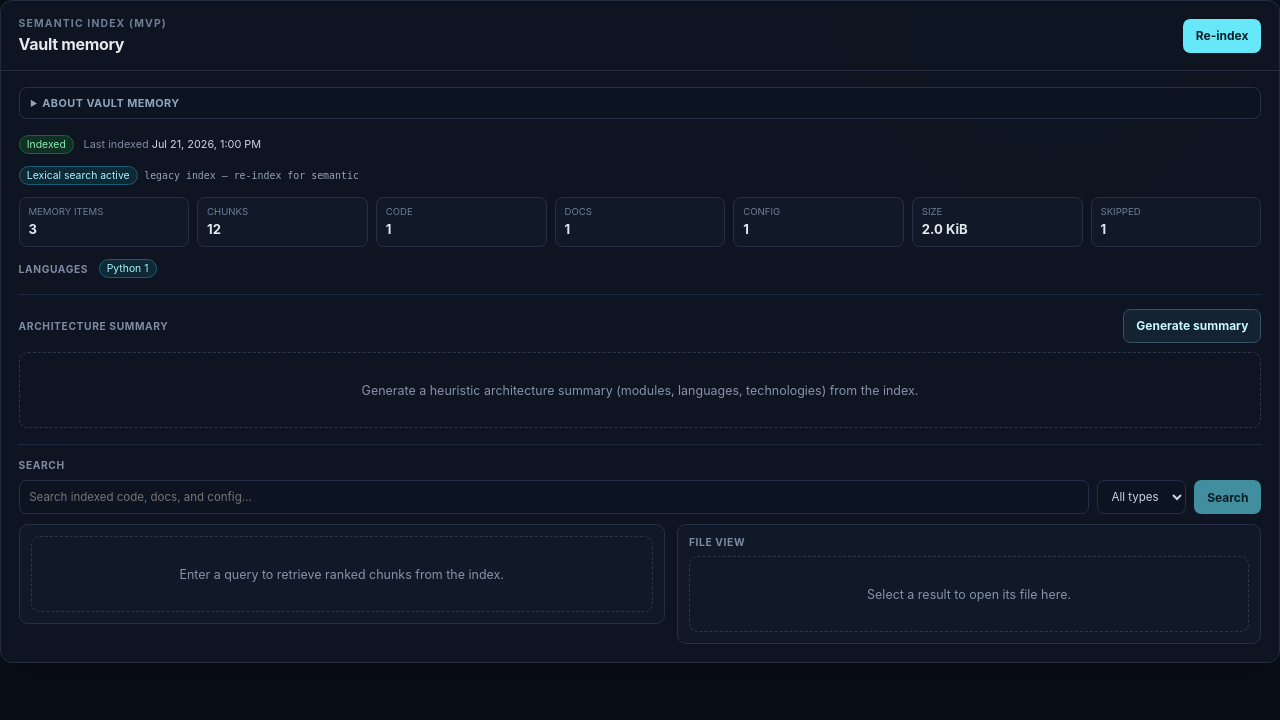
Test: VaultIndexPanel › shows a bounded stale message when a hit's file is gone after re-index
Type "authenticate" into the search field named "Vault search query". click: (554, 497)
box: [19,480,1089,514]
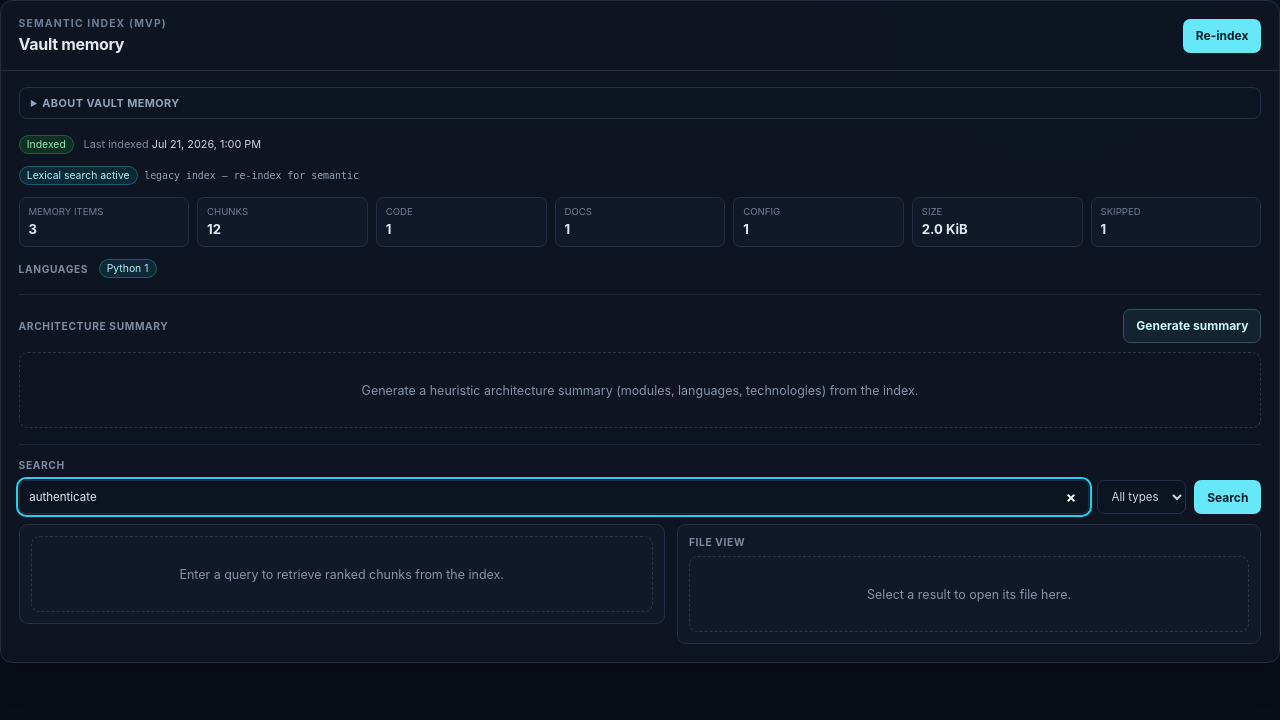
Click the button "Search". click: (1228, 497)
box: [1194,480,1261,514]
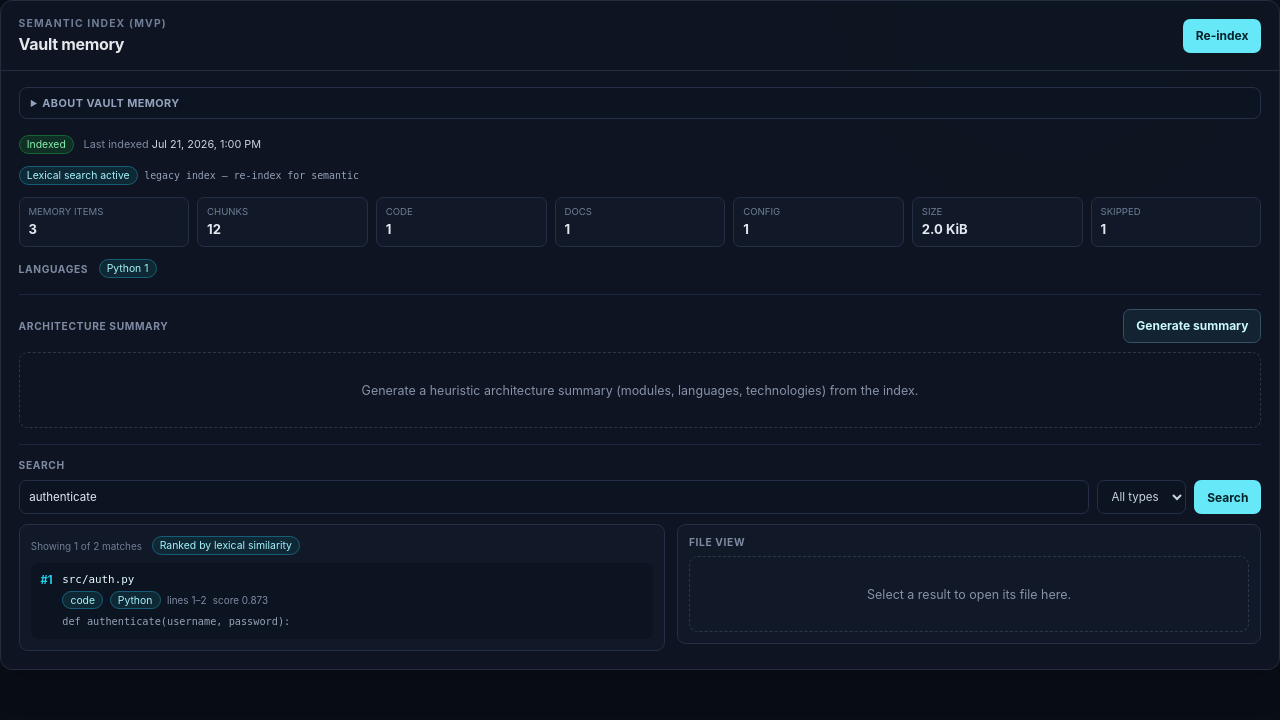
Click the button "src/auth.py". click: (98, 579)
box: [31,563,653,639]
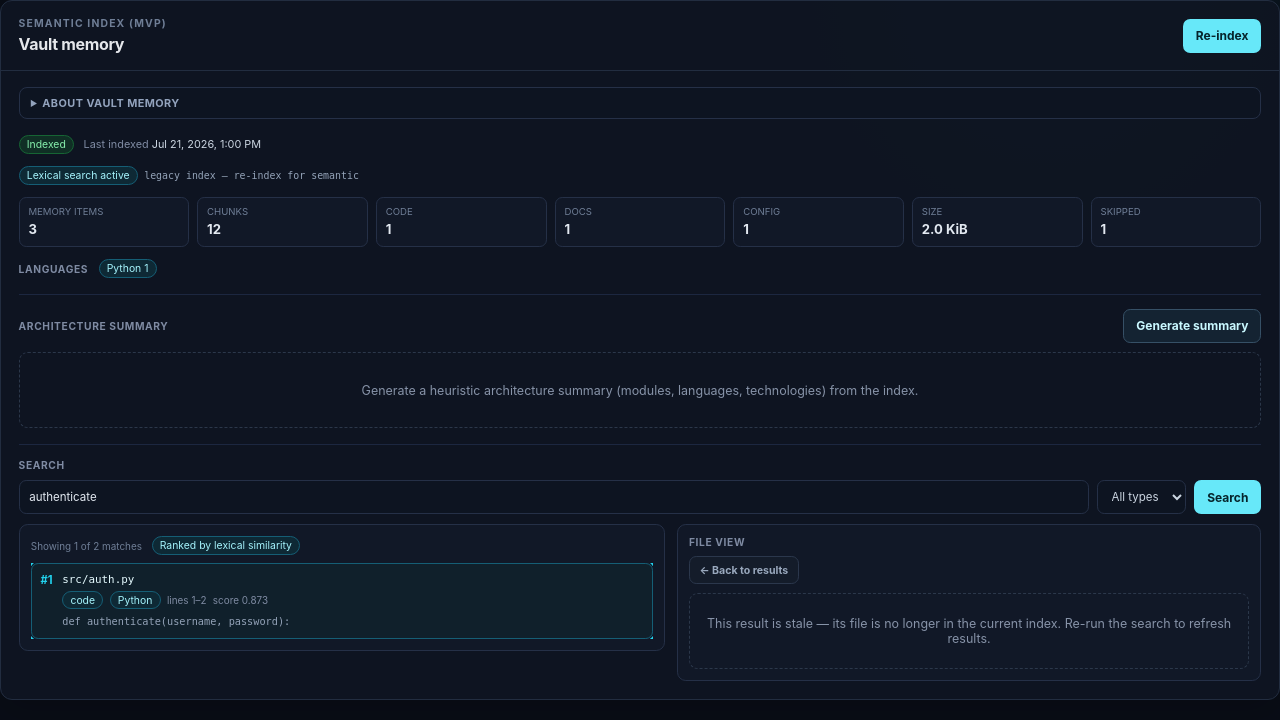
Result: the text "This result is stale" is shown at [707,616,1231,646]
Result: the button "← Back to results" is shown at [689,556,799,584]
